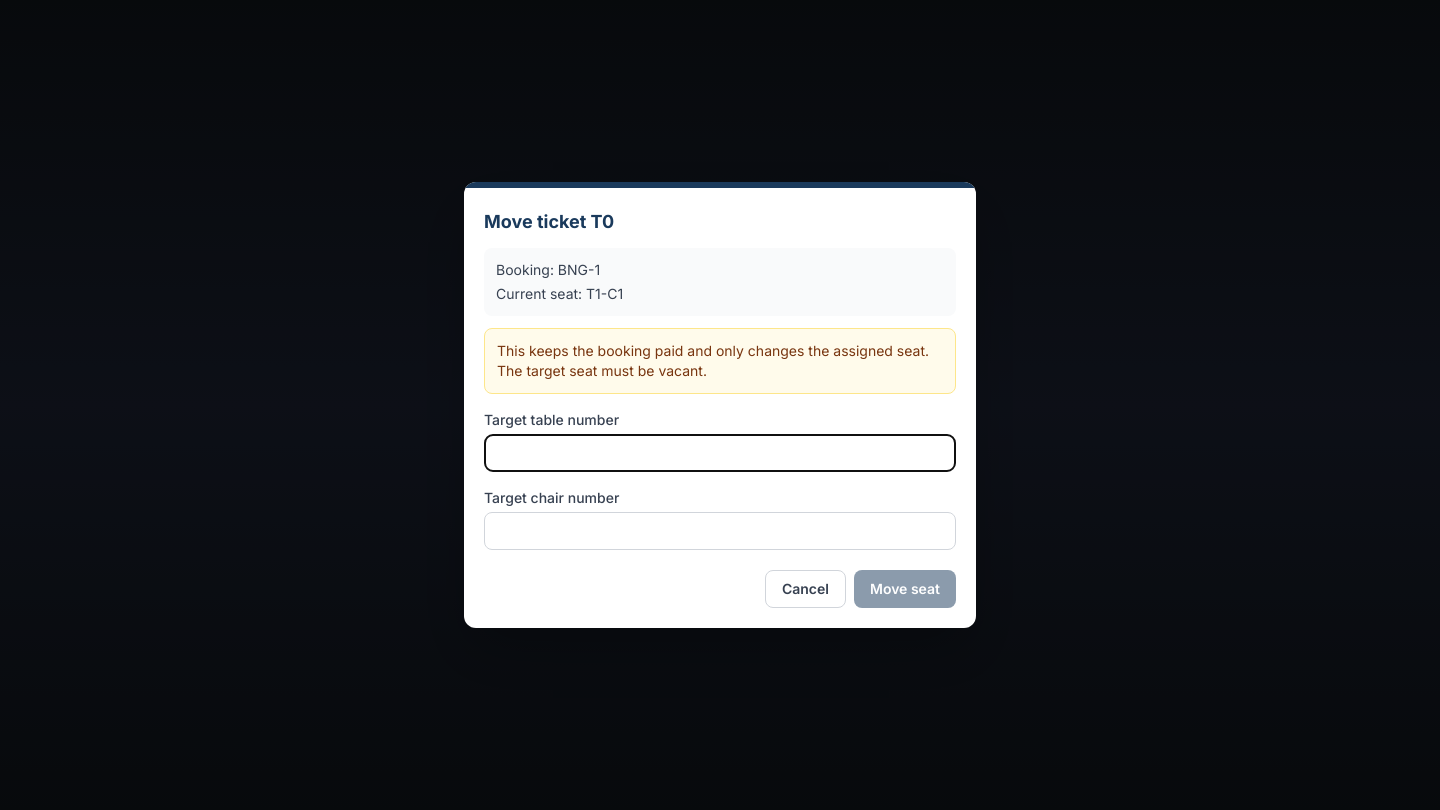
Test: useBookingActions › moves a seat only to a valid table and chair
Type "0" into the field labelled "Target table number". click: [720, 453]
box: [484,434,956,472]
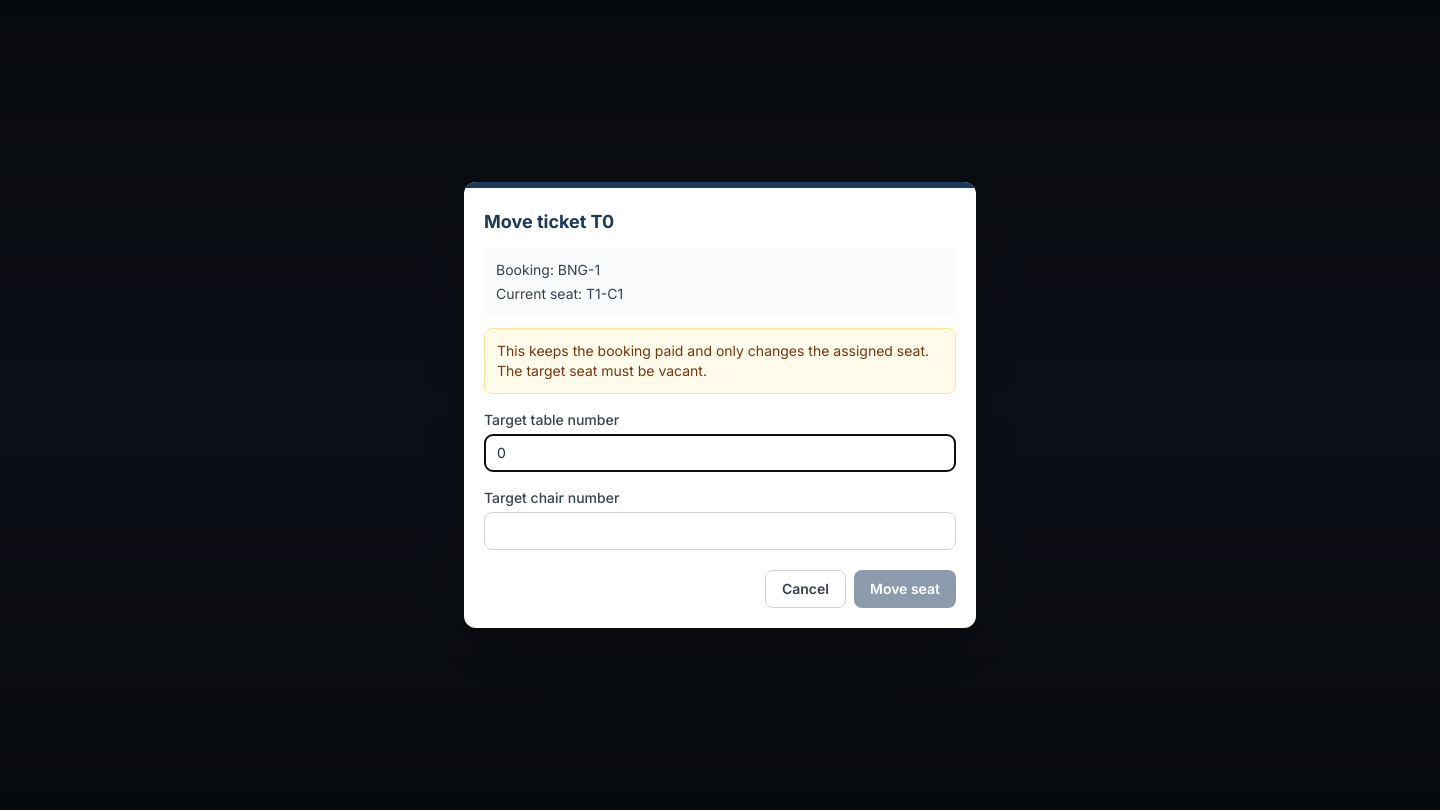
Type "4" into the field labelled "Target chair number". click: [720, 531]
box: [484,512,956,550]
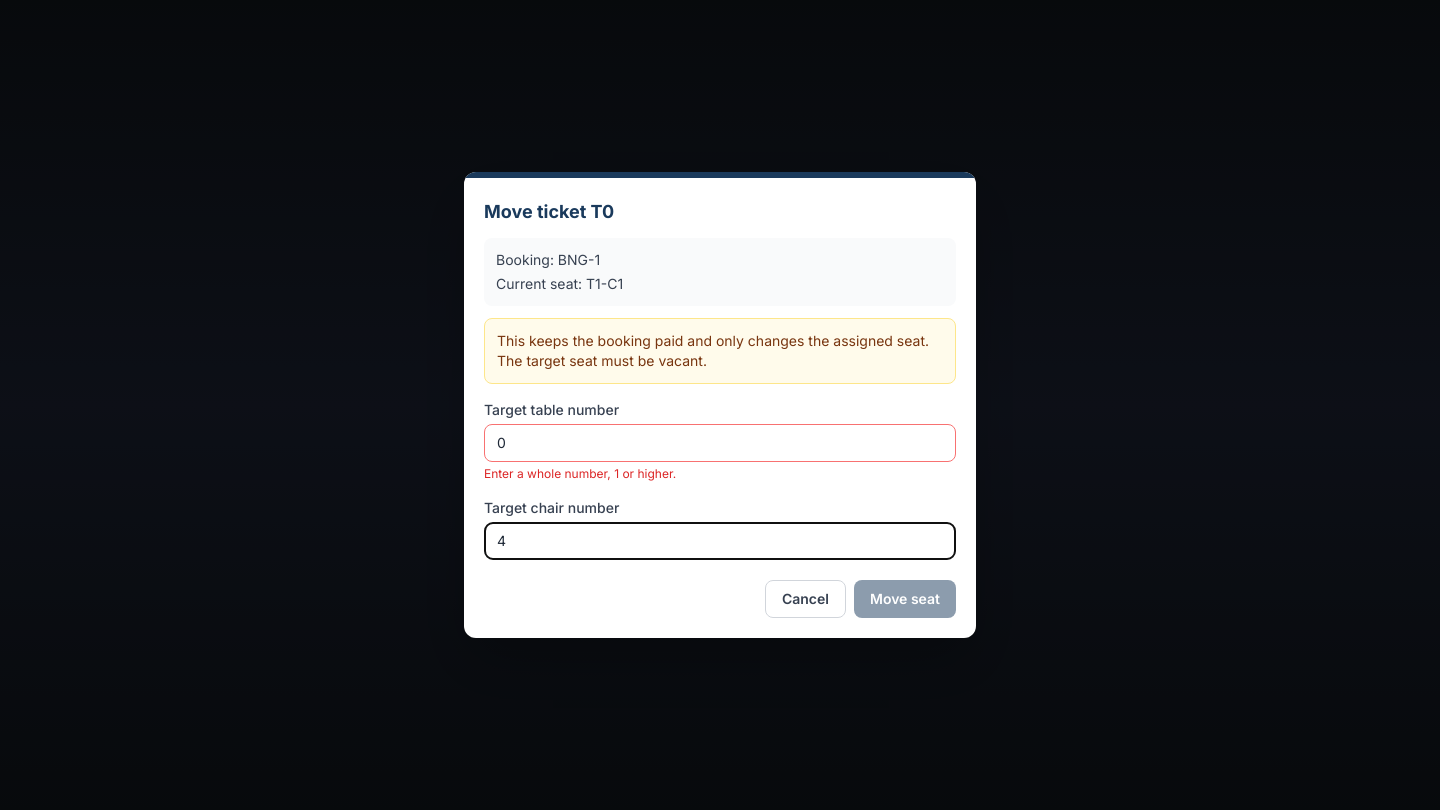
Expected: the button "Move seat" is disabled, [854,580,956,618]
Replace the text in the field labelled "Target table number" with "7". click: [720, 443]
box: [484,424,956,462]
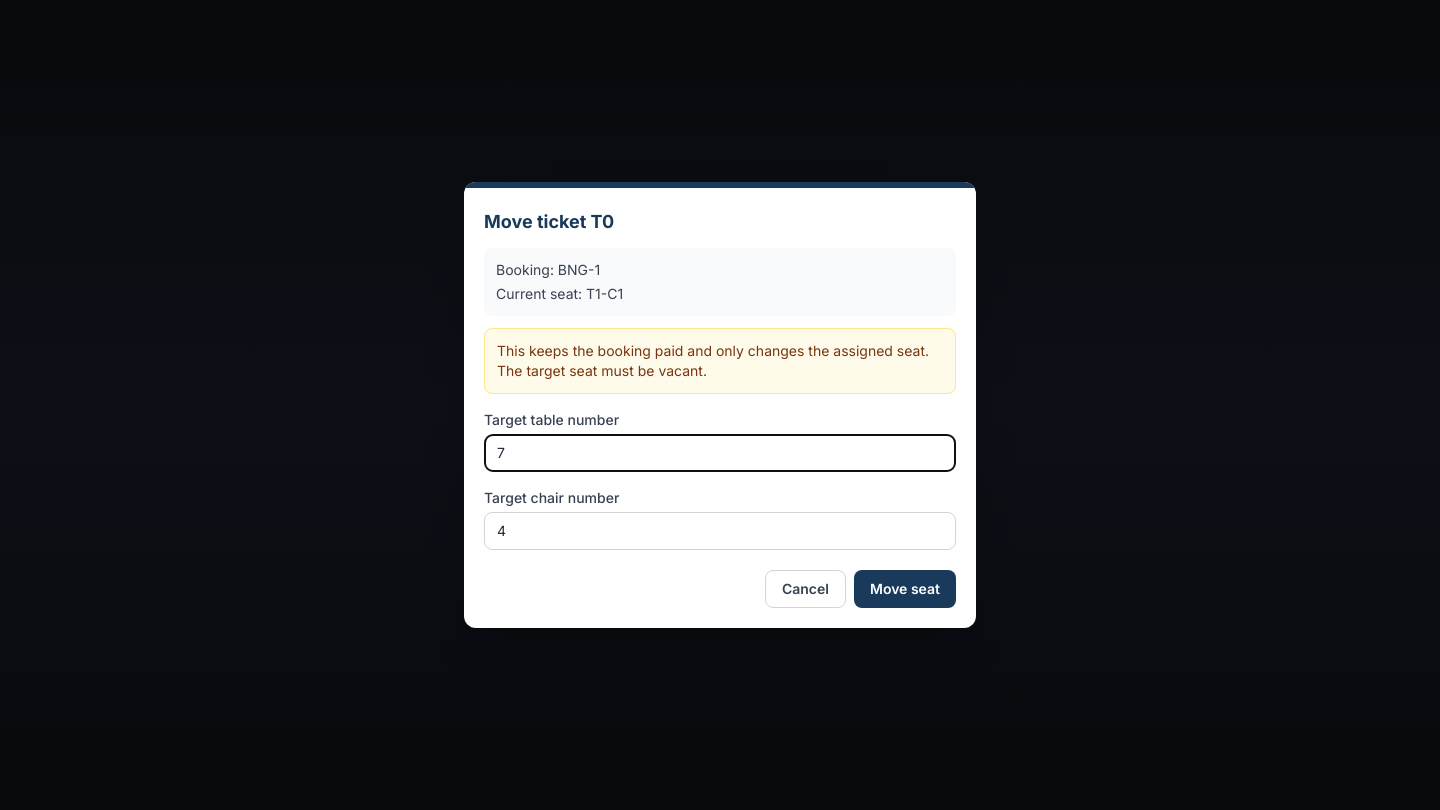
Click the button "Move seat". click: [905, 589]
box: [854,570,956,608]
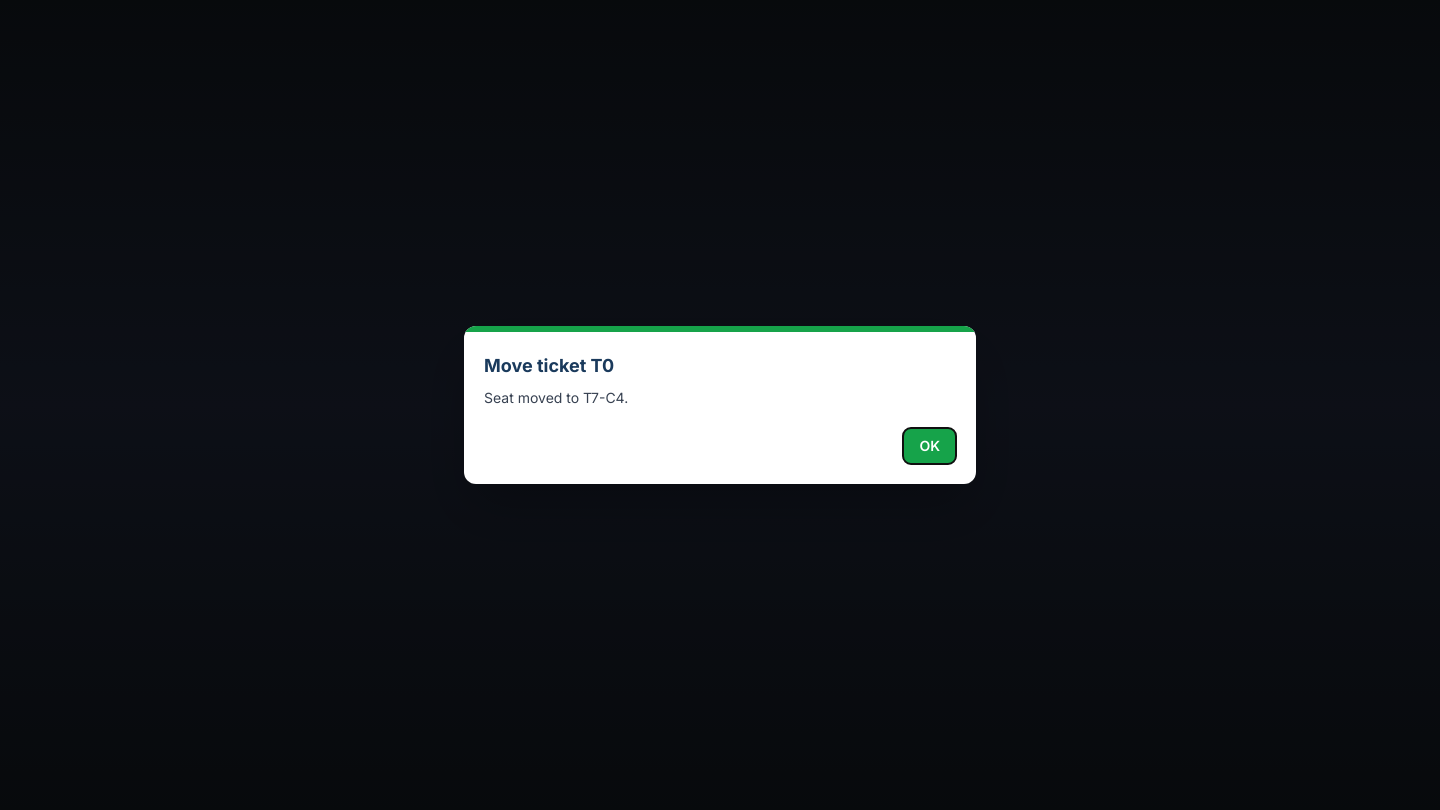
Now the text "Seat moved to T7-C4." is shown, box [484,389,628,406]
